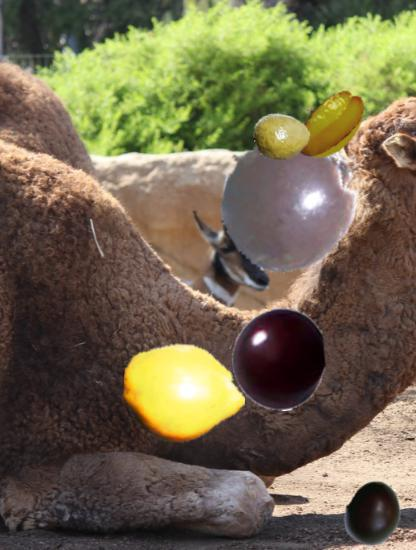Carambula: (288, 82, 373, 167)
Cherry: (227, 308, 331, 412)
Eggplant: (339, 480, 407, 548)
Guava: (254, 108, 310, 164)
Passion: (216, 128, 361, 273)
Quince: (123, 333, 246, 456)
